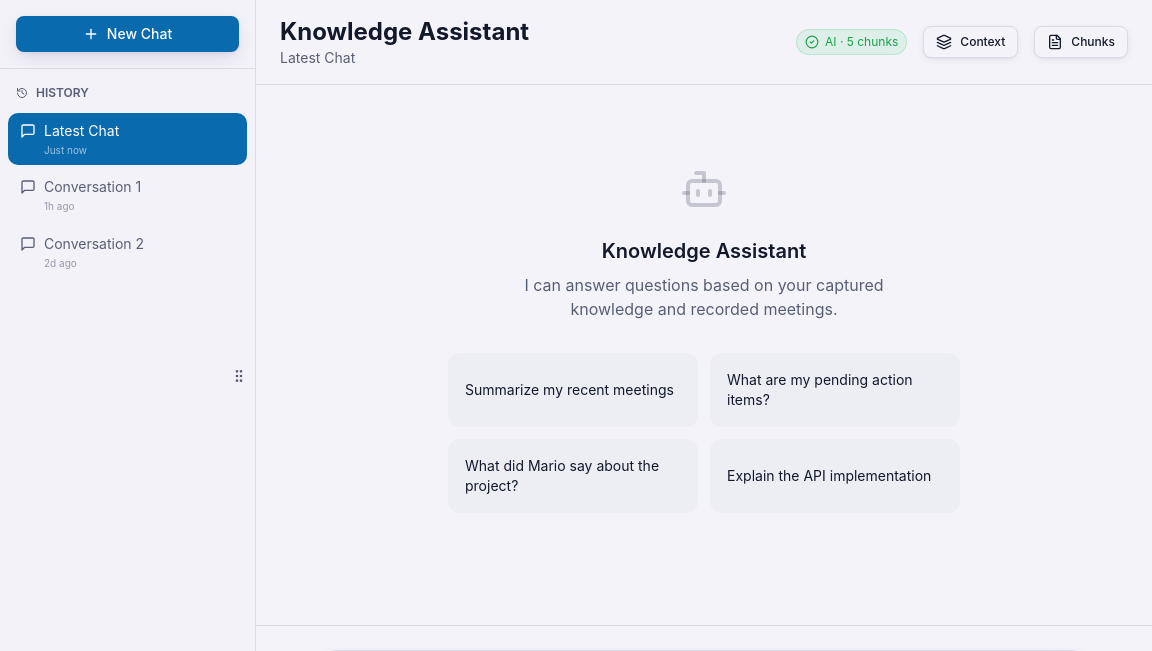
Test: Chat Component › chunk viewer paging › stops at the last page
expect the text "HISTORY" is shown: met, box [16, 85, 89, 100]
Click the button "Chunks" at (1081,42), box [1034, 26, 1128, 58]
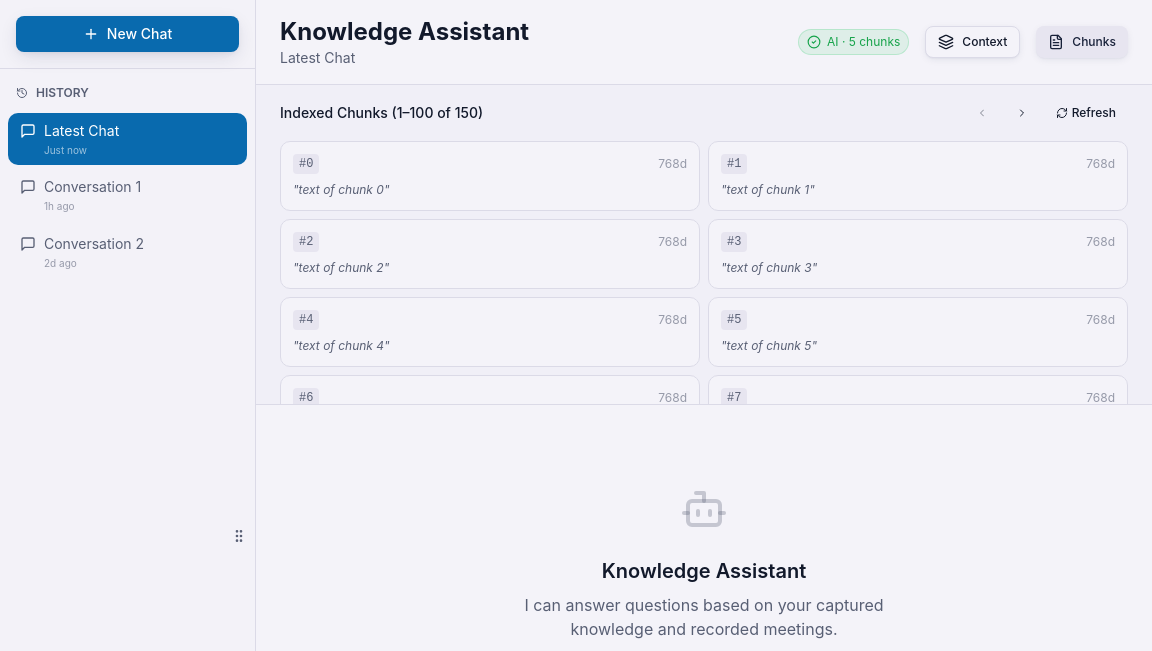
expect the heading "Indexed Chunks (1–100 of 150)" is shown: met, box [280, 103, 483, 123]
Click the button named "Next page of chunks" at (1022,113), box [1004, 97, 1040, 129]
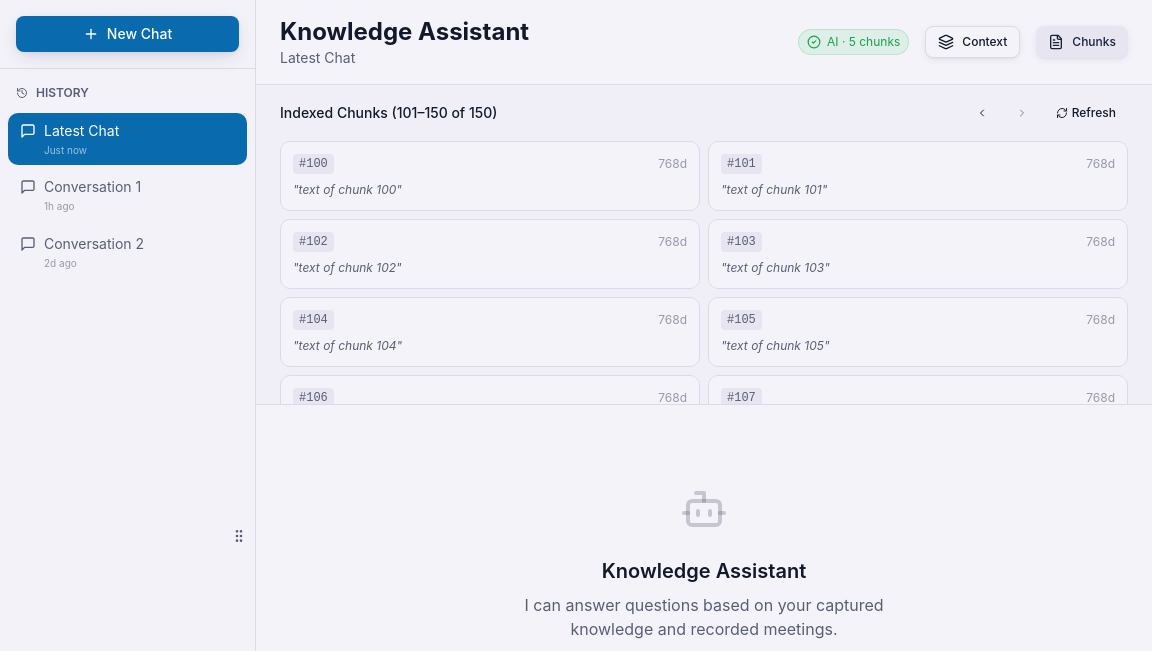
expect the heading "Indexed Chunks (101–150 of 150)" is shown: met, box [280, 103, 497, 123]
